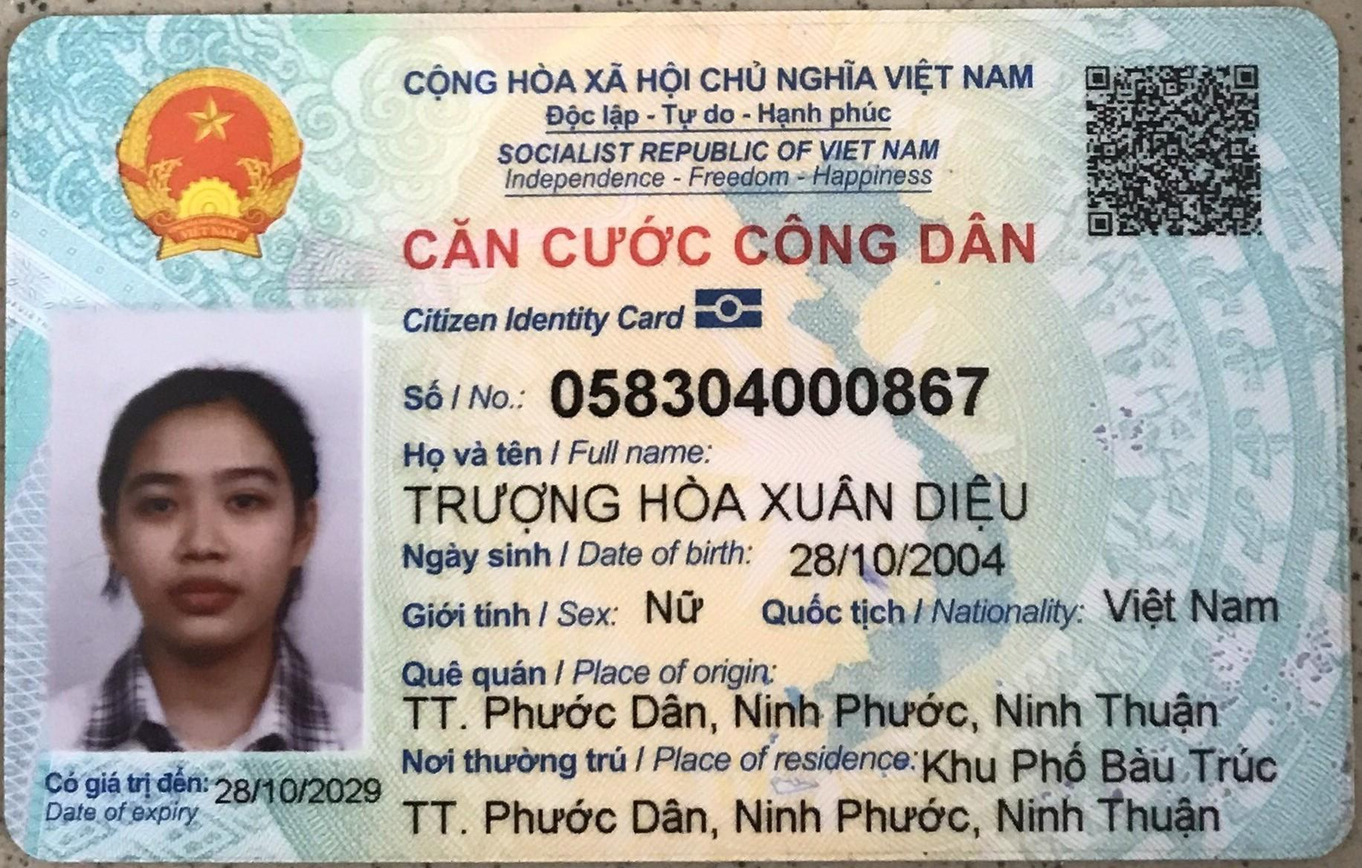ID: (545, 350, 994, 428)
birth: (773, 534, 1028, 584)
name: (400, 470, 1045, 539)
place: (400, 688, 1238, 737)
residence: (396, 786, 1236, 847), (914, 740, 1290, 791)
